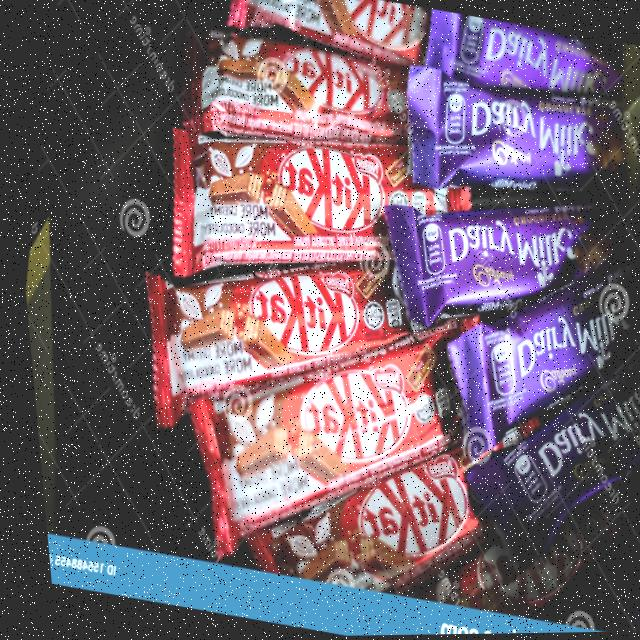kitkat: (149, 280, 478, 597), (109, 204, 429, 488), (142, 93, 443, 317), (225, 407, 497, 617), (183, 13, 435, 178), (221, 0, 444, 71)
